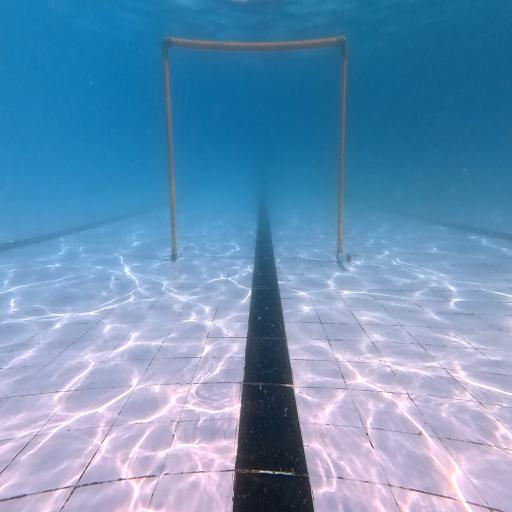gate: (162, 35, 352, 263)
